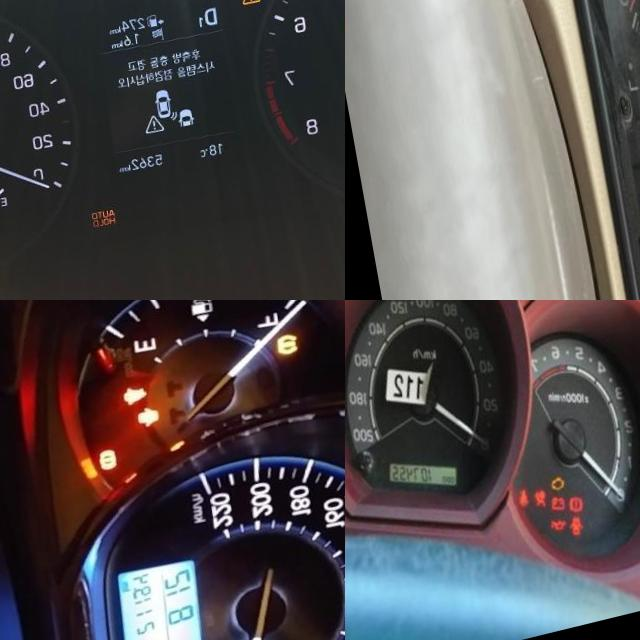Central Warning lamp: (231, 2, 253, 23)
Seat Belt: (117, 397, 144, 419), (499, 508, 511, 529)
